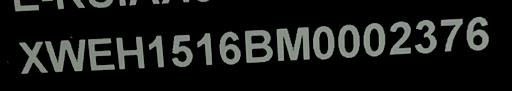letter: (44, 39, 88, 74), (275, 27, 311, 62), (242, 28, 276, 63), (114, 35, 148, 70), (360, 20, 388, 59), (16, 40, 48, 73), (85, 36, 115, 71), (438, 17, 464, 56), (387, 20, 413, 57), (466, 14, 490, 53), (414, 18, 438, 57), (335, 23, 361, 58), (216, 31, 242, 66), (312, 25, 336, 60), (170, 32, 194, 67), (146, 34, 170, 69), (194, 30, 216, 67)
